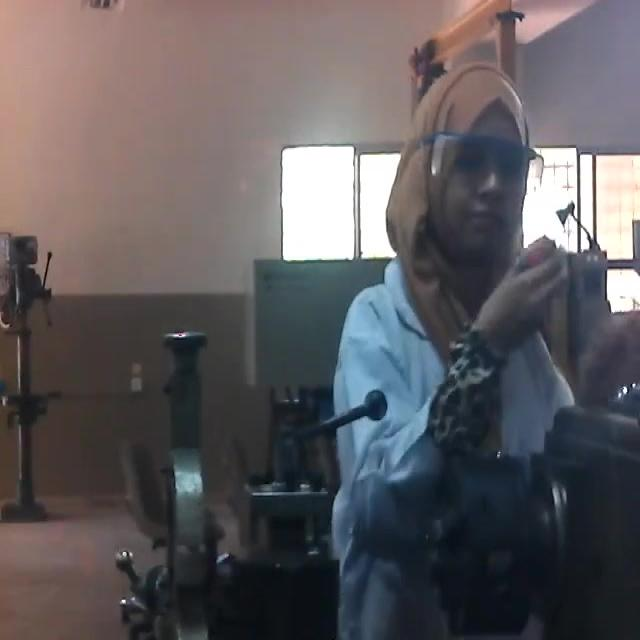googles: (436, 133, 545, 205)
labcoat: (332, 250, 586, 640)
